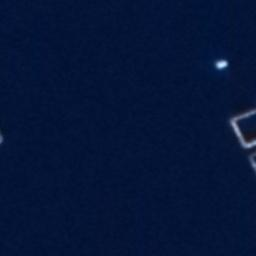square_solid: (225, 102, 256, 155)
